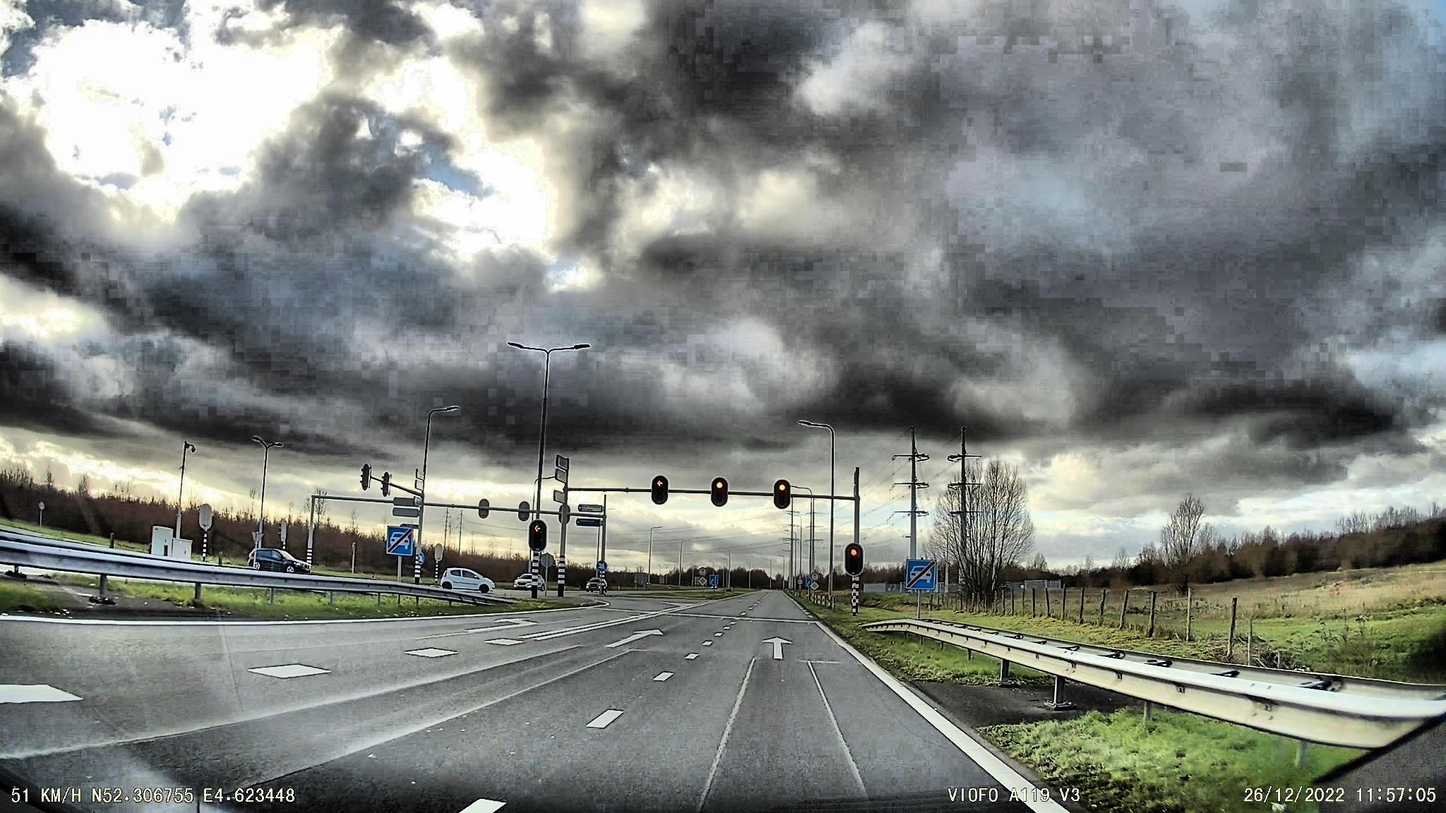Roads: (0, 591, 1082, 813)
